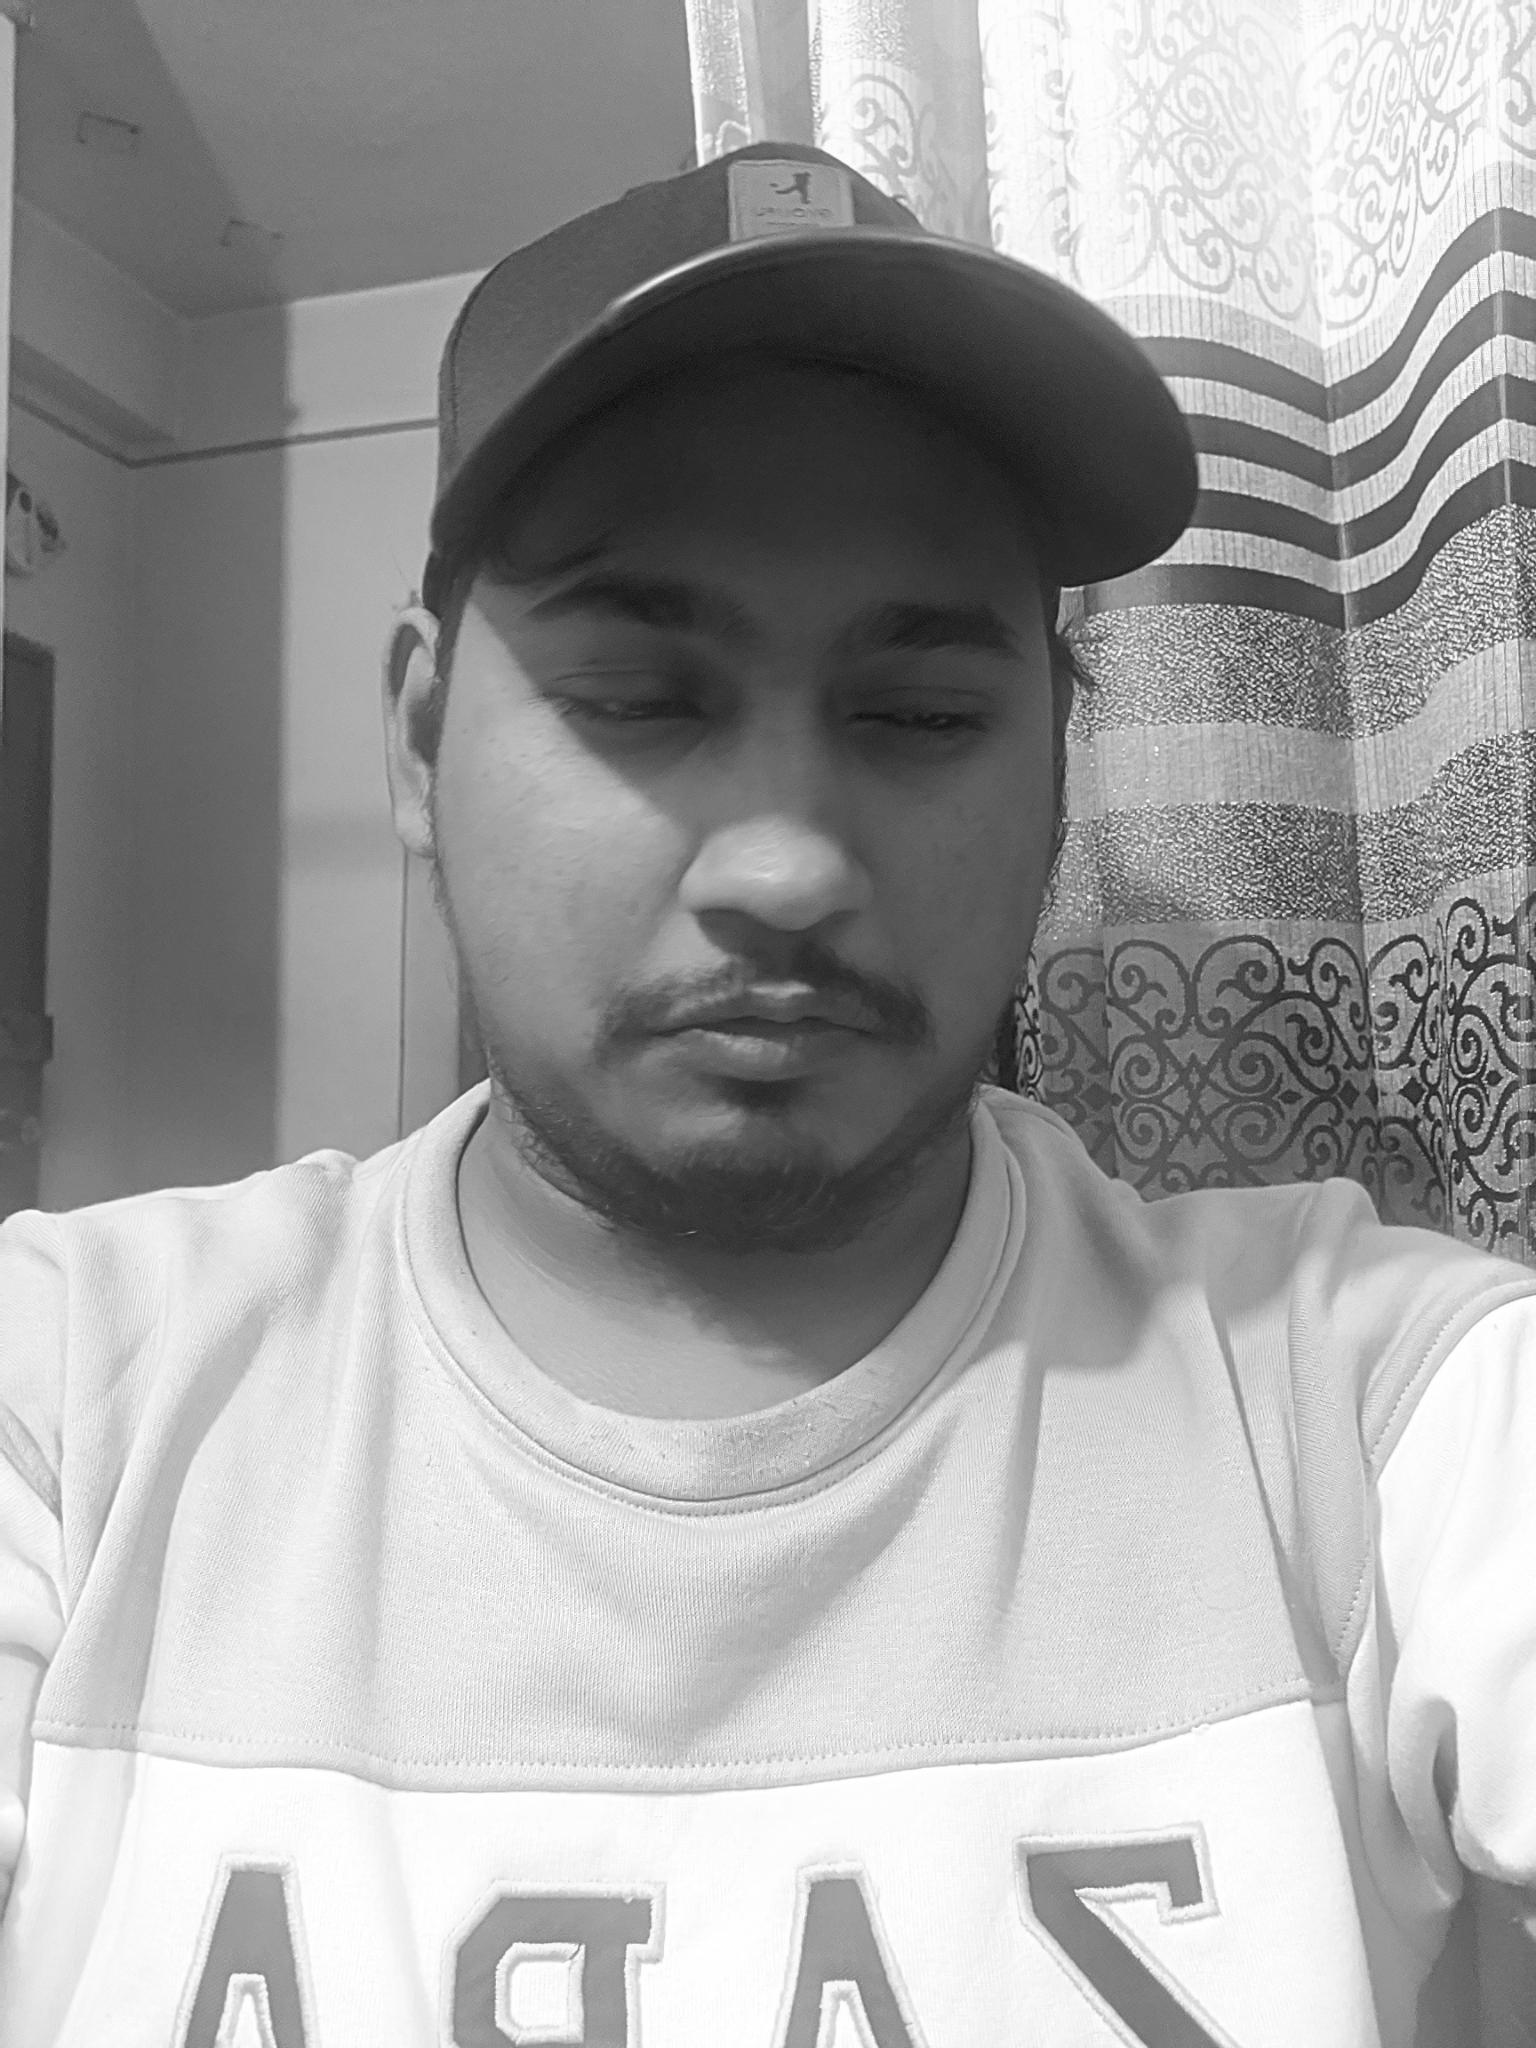Disgust: (473, 437, 1066, 1216)
